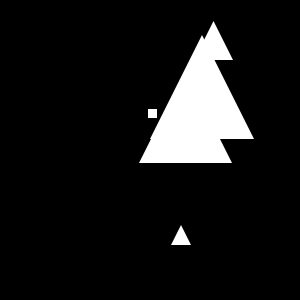circle: (148, 109, 157, 118)
triangle: (150, 35, 254, 139), (139, 70, 232, 163), (194, 21, 233, 60), (171, 225, 191, 245)
